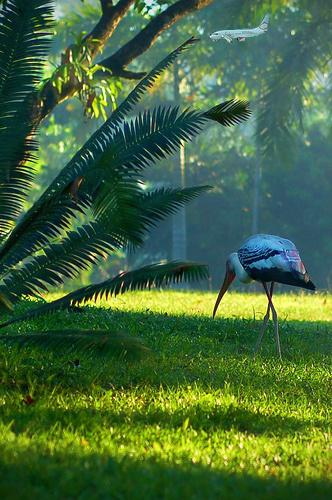tampered: (210, 14, 270, 44)
